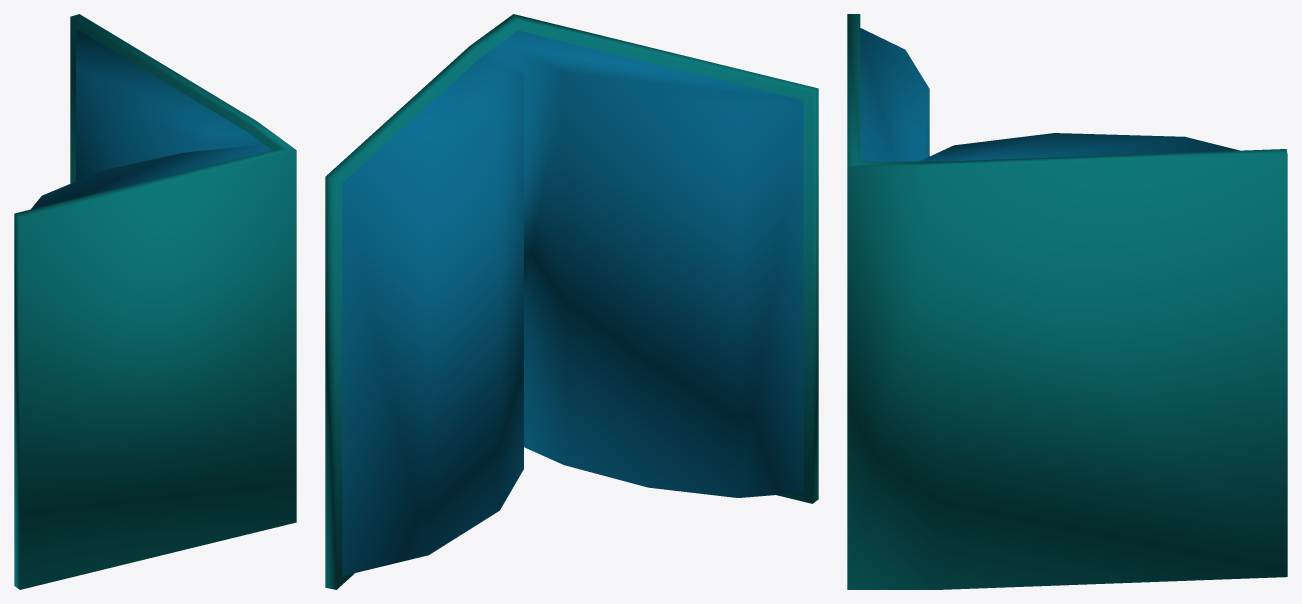
The model's file is livre_ouvert_90_low.fbx.
3 views of the same model, side by side, from view 1: azimuth 30°, elevation 25°; view 2: azimuth 150°, elevation 25°; view 3: azimuth 270°, elevation 25° (orthographic). The views are drawn at different scales.
Parts seen in each view (by area): view 1: livre_ouvert_90_low; view 2: livre_ouvert_90_low; view 3: livre_ouvert_90_low.
Part boxes in pixels (bbox=[...]): livre_ouvert_90_low: bbox=[14, 14, 296, 589]; livre_ouvert_90_low: bbox=[325, 14, 818, 589]; livre_ouvert_90_low: bbox=[847, 14, 1287, 589].
Size of the model in its own units: 35 by 45 by 42.48.
